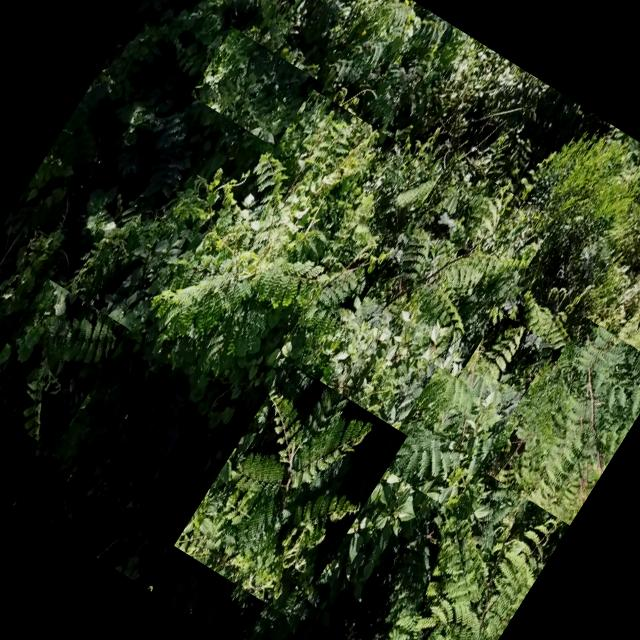Mysore-Thorn-Weed: (126, 132, 380, 408), (173, 362, 407, 620), (354, 156, 556, 378), (326, 464, 570, 640), (377, 300, 554, 511), (486, 316, 640, 525), (308, 0, 469, 145), (0, 278, 128, 450), (93, 84, 218, 220), (189, 26, 317, 148)
